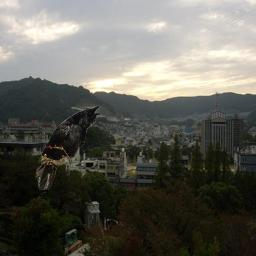Crow: (35, 104, 103, 190)
